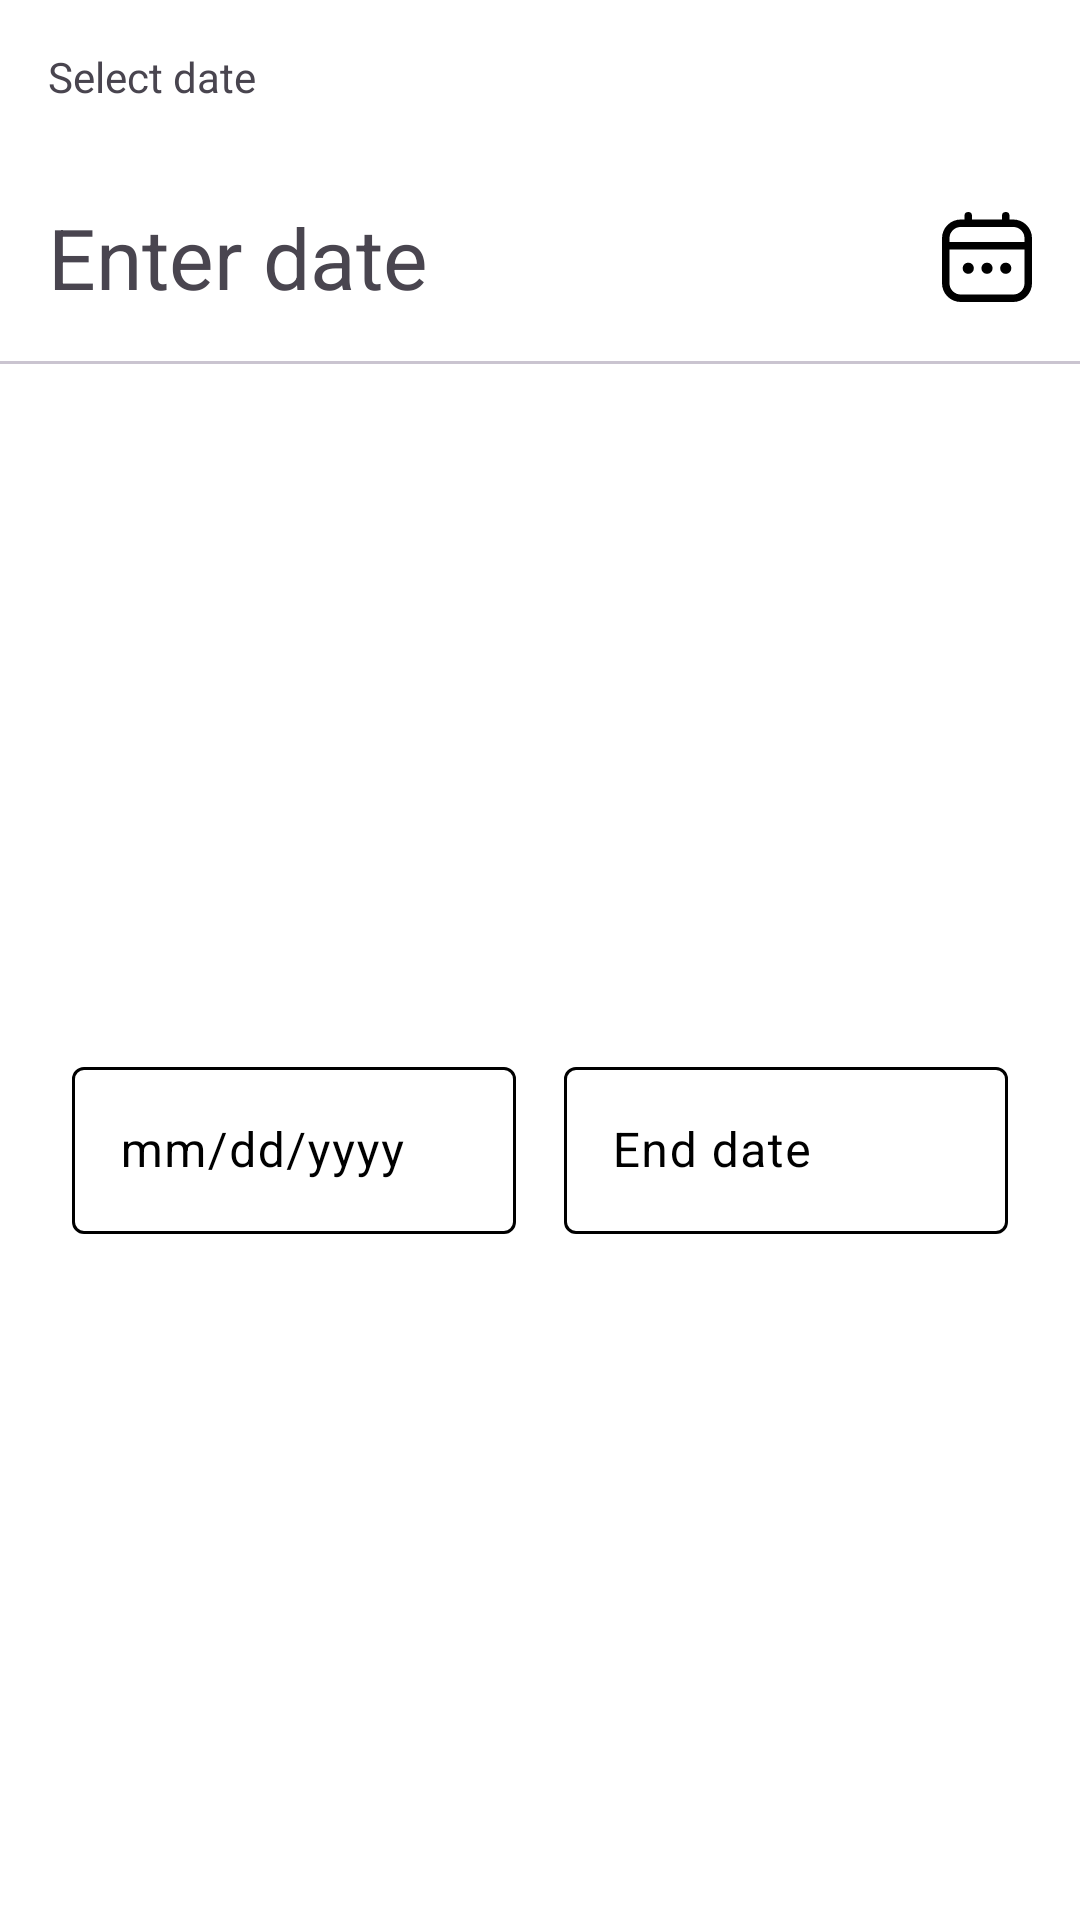

Named icons in this screenshot (1080 × 1920) and their bounding boxes, [x1,y1,x2,y2]:
Calendar: [942,212,1032,302]
